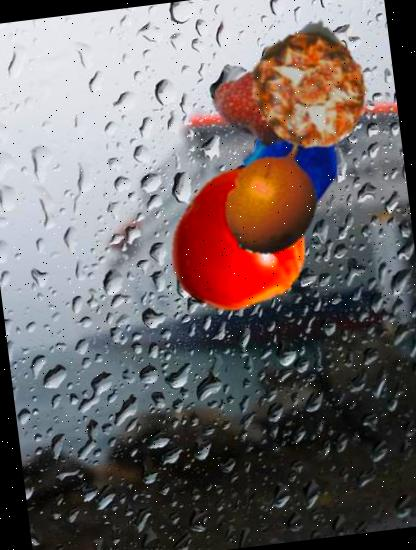Granadilla: (206, 128, 342, 264)
Huckleberry: (231, 112, 347, 228)
Pineapple: (241, 22, 376, 158)
Strawberry: (204, 35, 350, 181)
Tomato: (160, 163, 322, 325)
